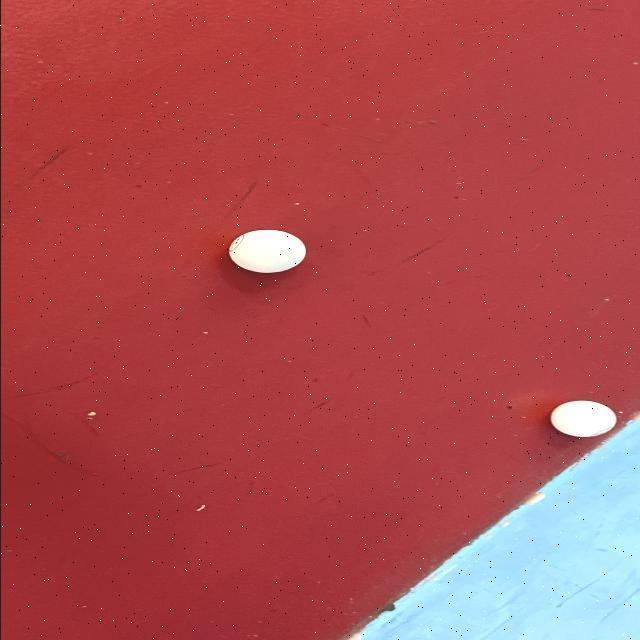ping-pong-ball: (218, 217, 318, 280), (534, 396, 624, 444)
